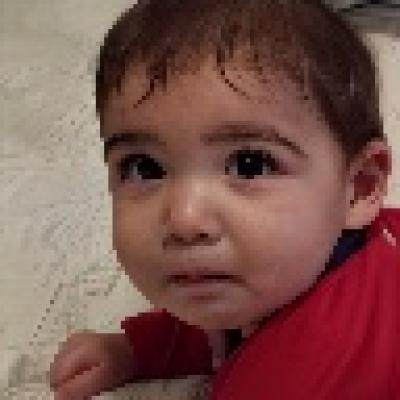sad: (100, 30, 340, 328)
